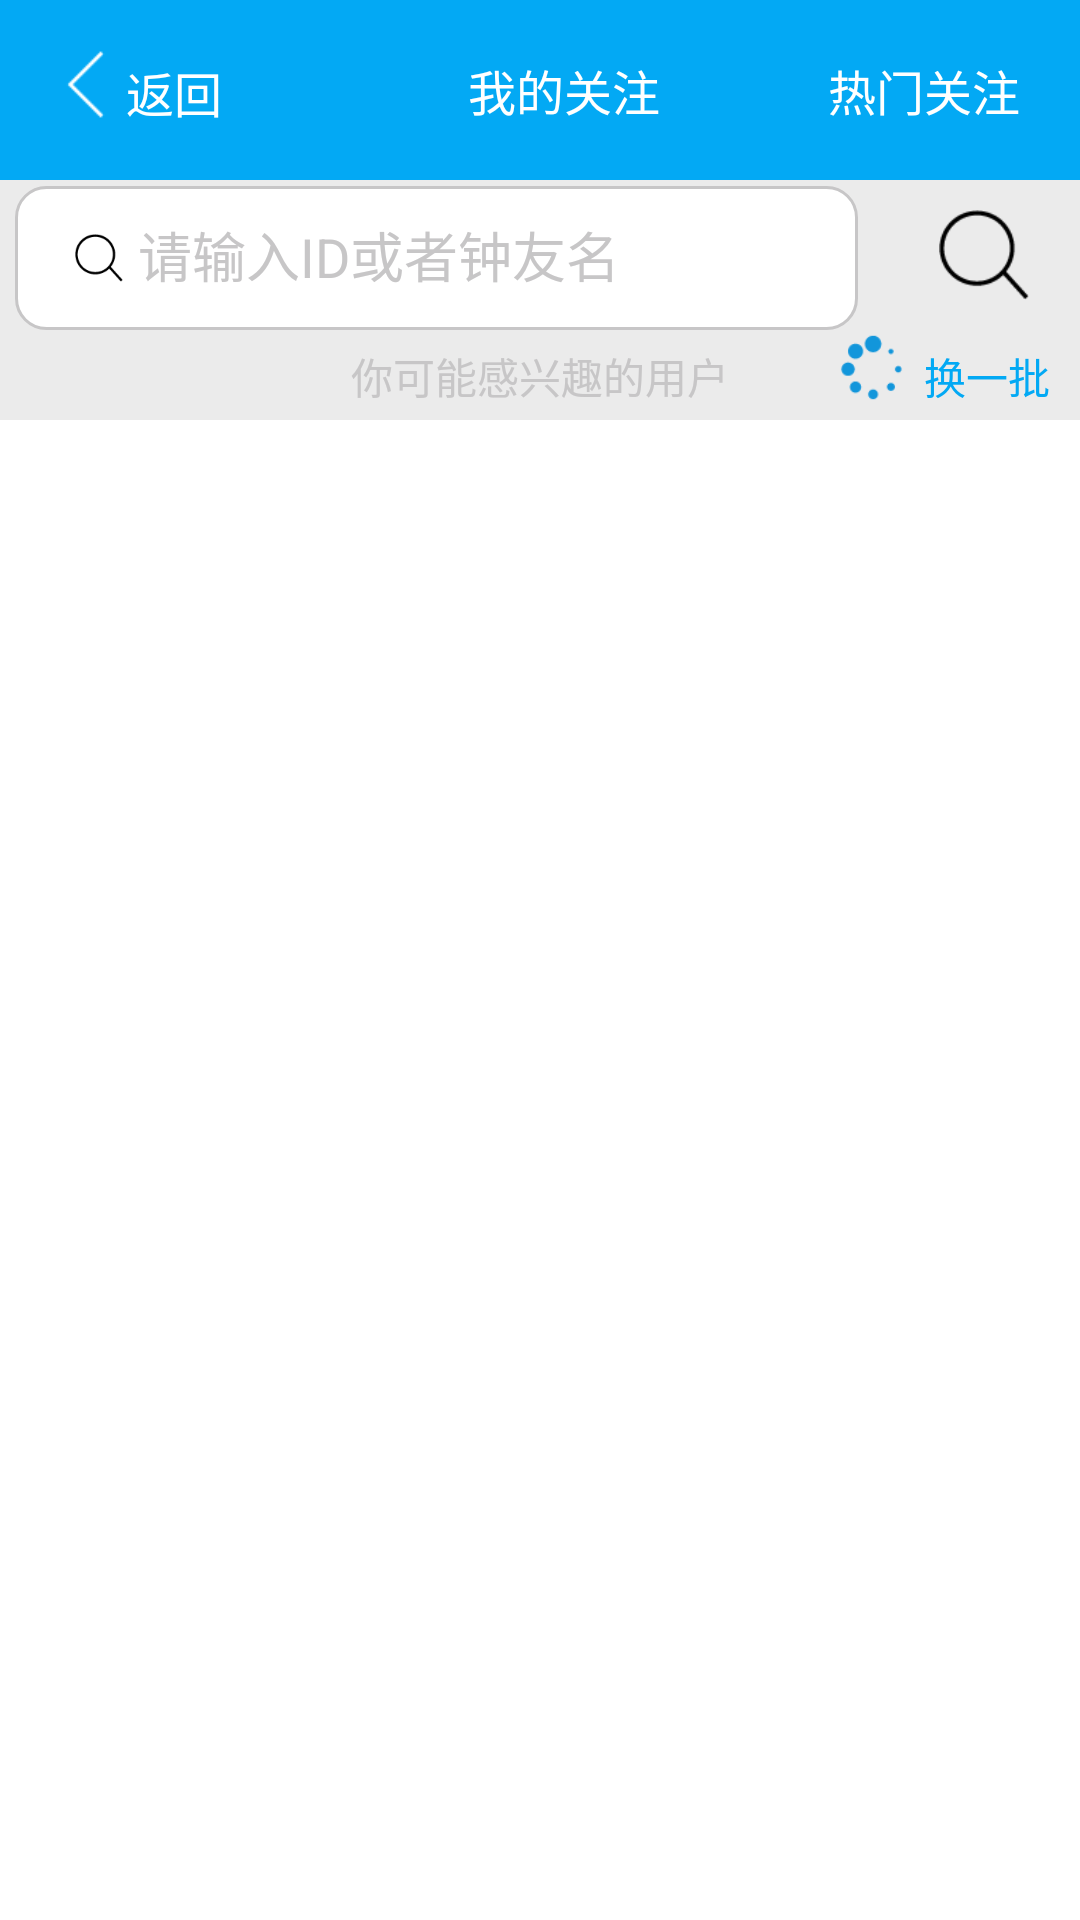

Named icons in this screenshot (1080x1920) and their bounding boxes, (x1, y1, x2, y2):
jiazai: (841, 335, 902, 400)
sousuo: (939, 210, 1029, 299)
zuojiantou bai: (68, 51, 103, 118)
